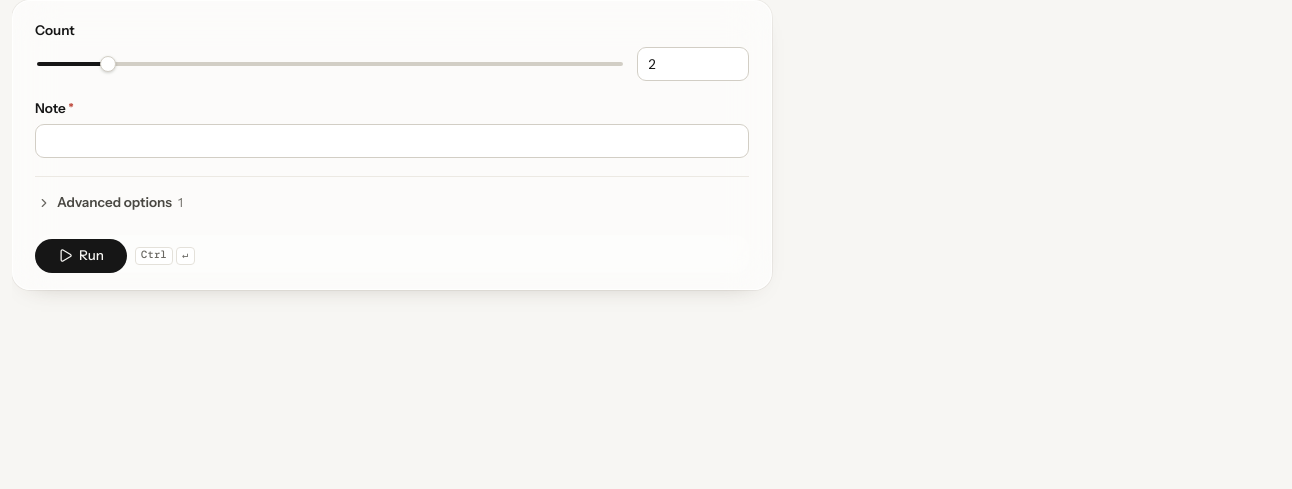
Scenario: tool form validation › offers Reset before any run, and Reset clears values, errors, result and Advanced
Expected: the button "Reset" is not shown
Type "hi" into the field labelled "Note *". click: [392, 141]
box: [35, 124, 749, 158]
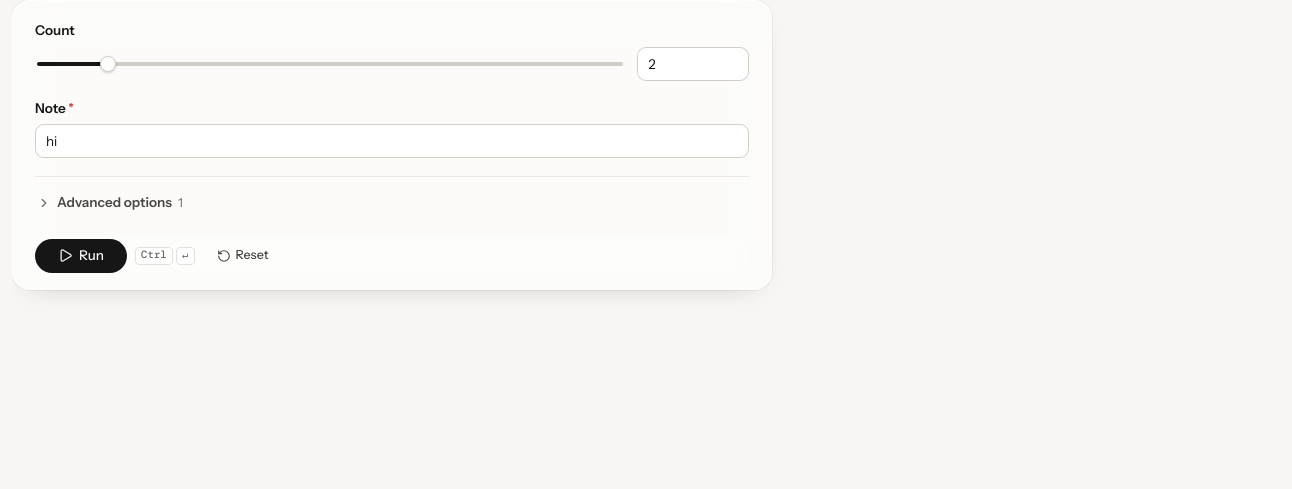
Click the button "Run". click: [81, 256]
box: [35, 239, 127, 273]
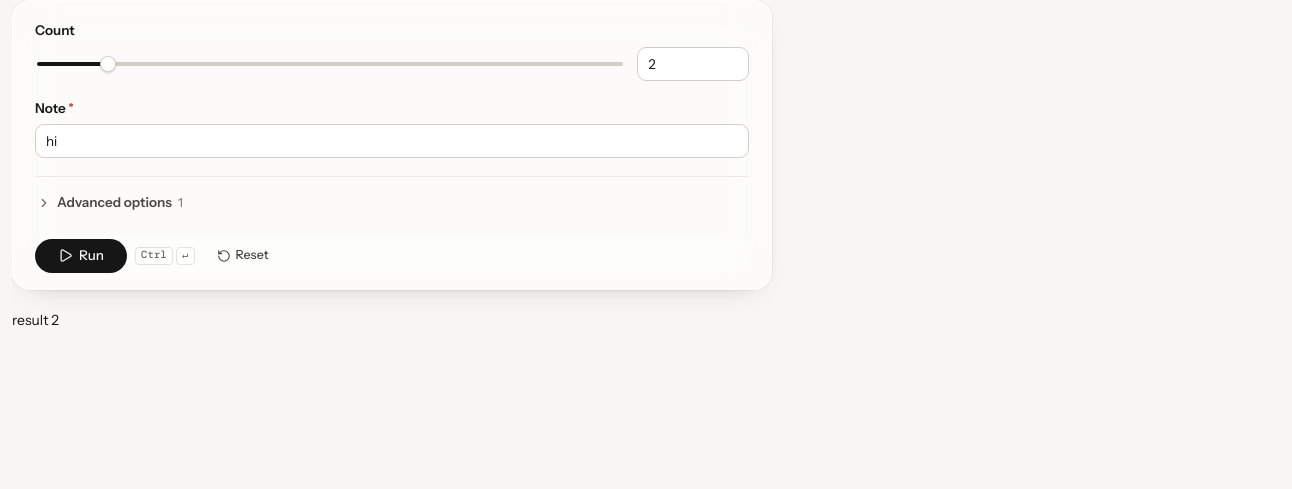
Expected: the text with test id "result" reads "result 2", [12, 311, 59, 329]
Click the button "Advanced options 1". click: [112, 203]
box: [35, 189, 189, 217]
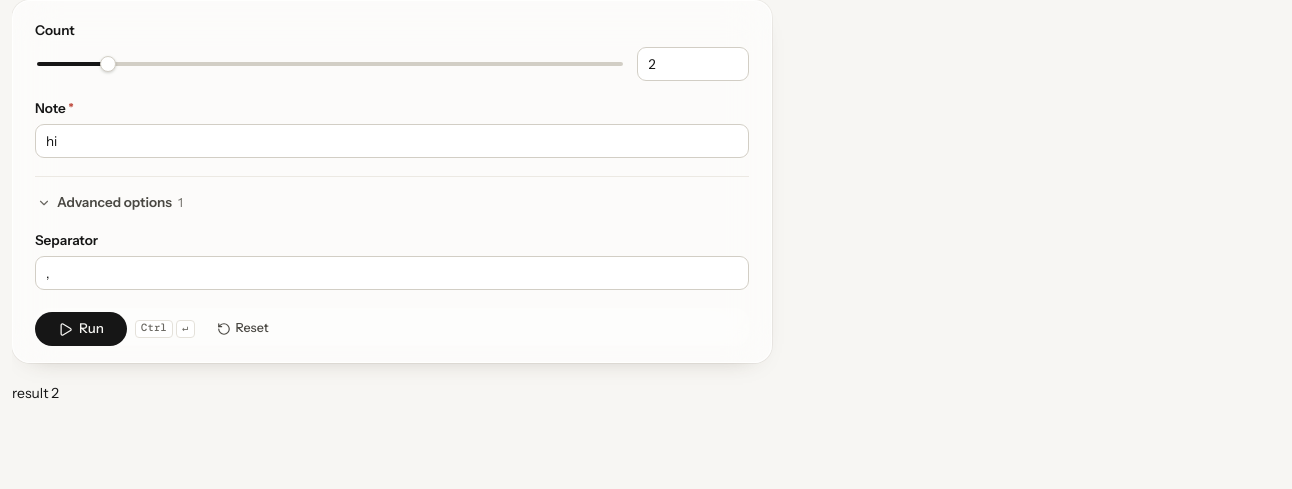
Expected: the field labelled "Separator" is shown, [35, 256, 749, 290]
Replace the text in the number field labelled "Count" with "0". click: [693, 64]
box: [637, 47, 749, 81]
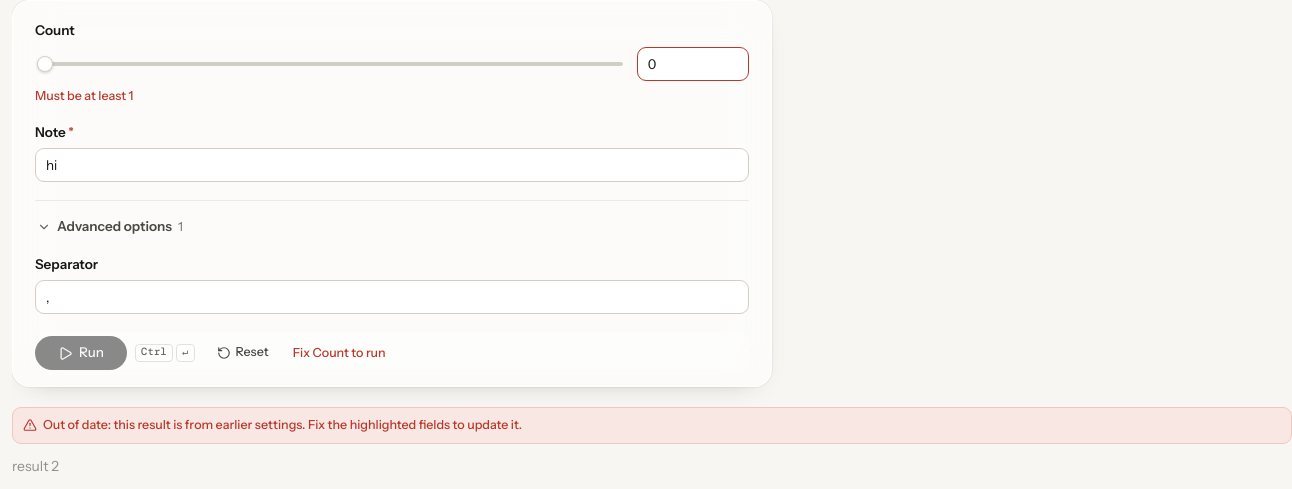
Click the button "Reset". click: [243, 353]
box: [207, 339, 279, 367]
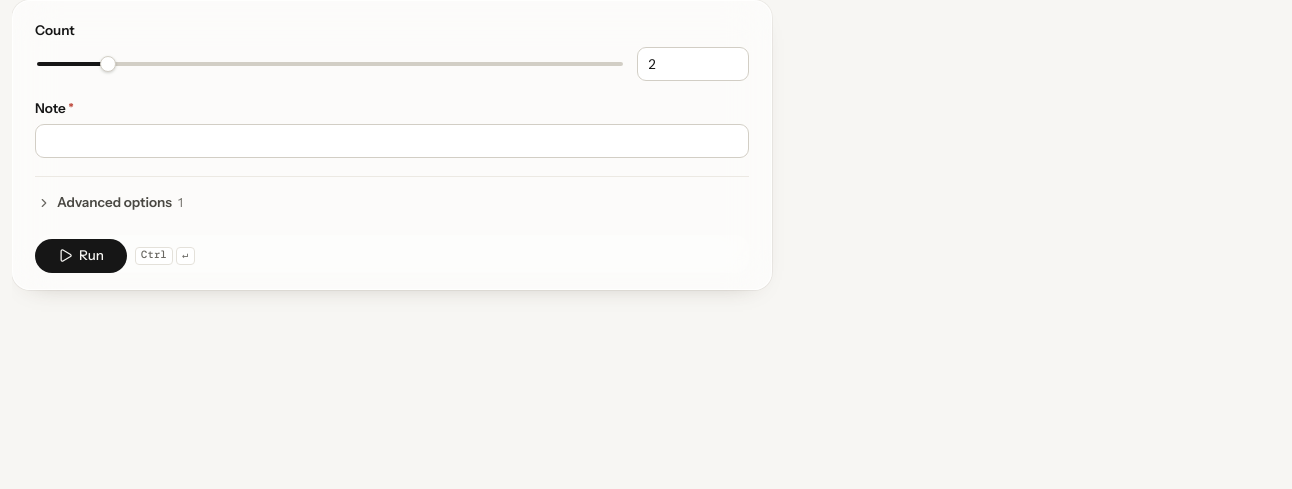
Expected: the number field labelled "Count" holds "2"
Expected: the text "Must be at least 1" is gone
Expected: the text with test id "result" is gone
Replace the text in the number field labelled "Count" with "5". click: [693, 64]
box: [637, 47, 749, 81]
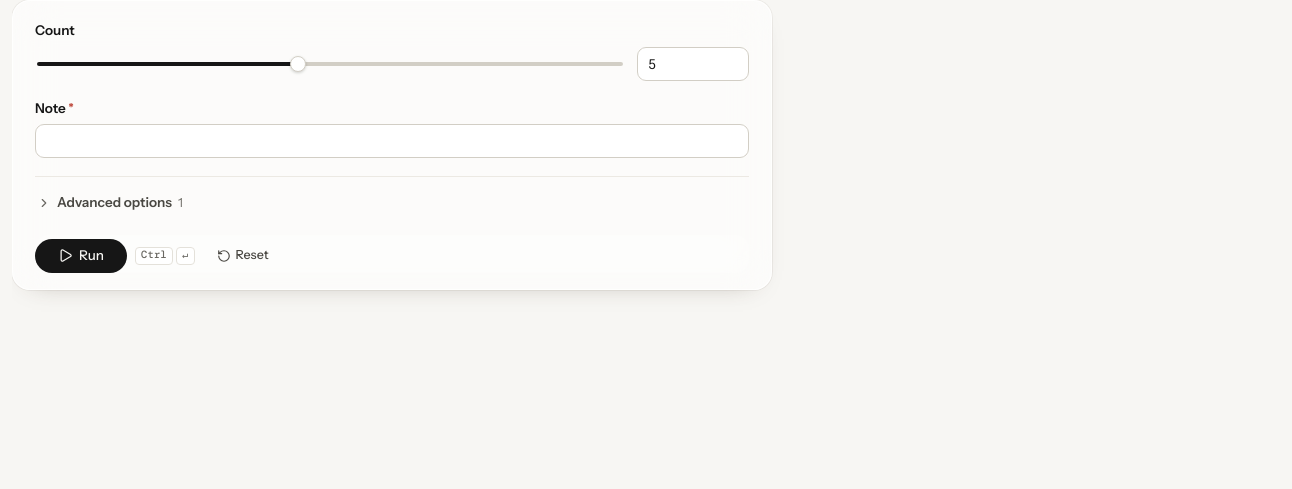
Expected: the button "Reset" is shown, [207, 242, 279, 270]
